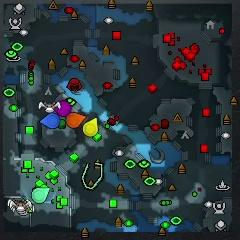p1: (40, 113, 60, 128)
p2: (32, 187, 50, 204)
p3: (53, 100, 72, 117)
p4: (83, 117, 97, 137)
p5: (66, 112, 86, 129)
